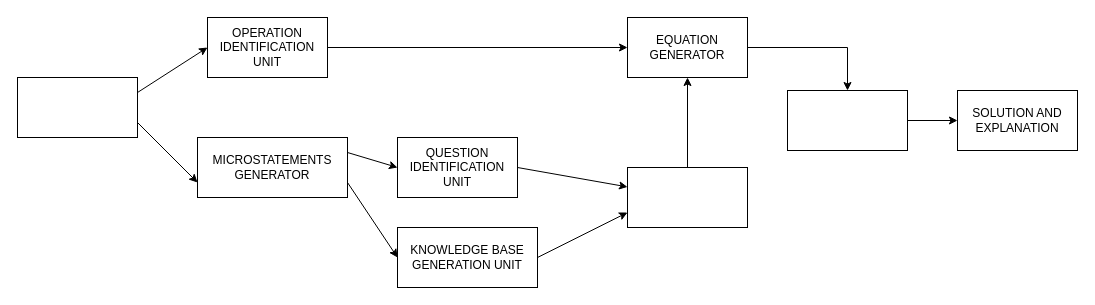
The diagram is 1095 pixels wide and 305 high, and some of its shapes have lost their labels. Here are the shapes that lost their labels. From the top down, the centre of each, then its label:
the point at 77,107: MATH WORD PROBLEM
the point at 847,120: SOLVER
the point at 687,197: IRRELEVANT INFORMATION REMOVAL UNIT
